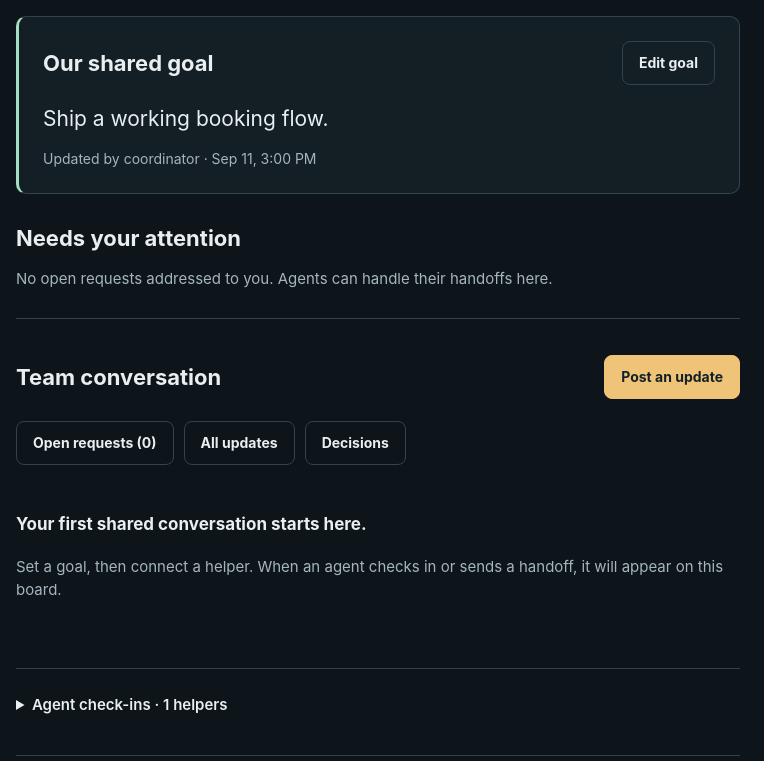
Test: shows a sent update and restores focus while protecting an in-progress draft
(page scrolled)
Click the button "Post an update": click(672, 377) x1=604 y1=355 x2=740 y2=399
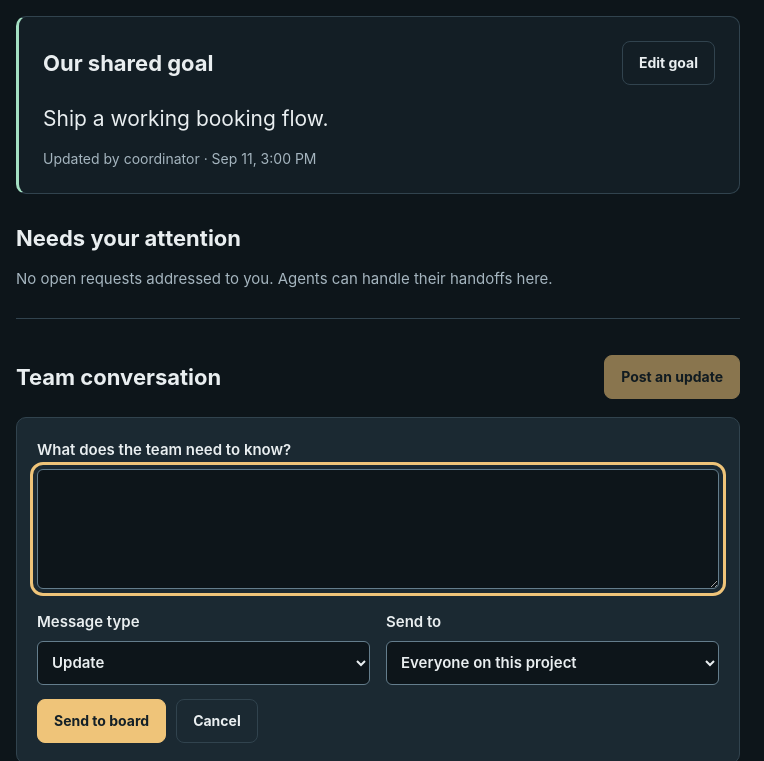
Check: the button "Post an update" is disabled, box x1=604 y1=355 x2=740 y2=399
In the text box labelled "What does the team need to know?": (378, 530) x1=37 y1=470 x2=719 y2=590, type "The interface check is complete."
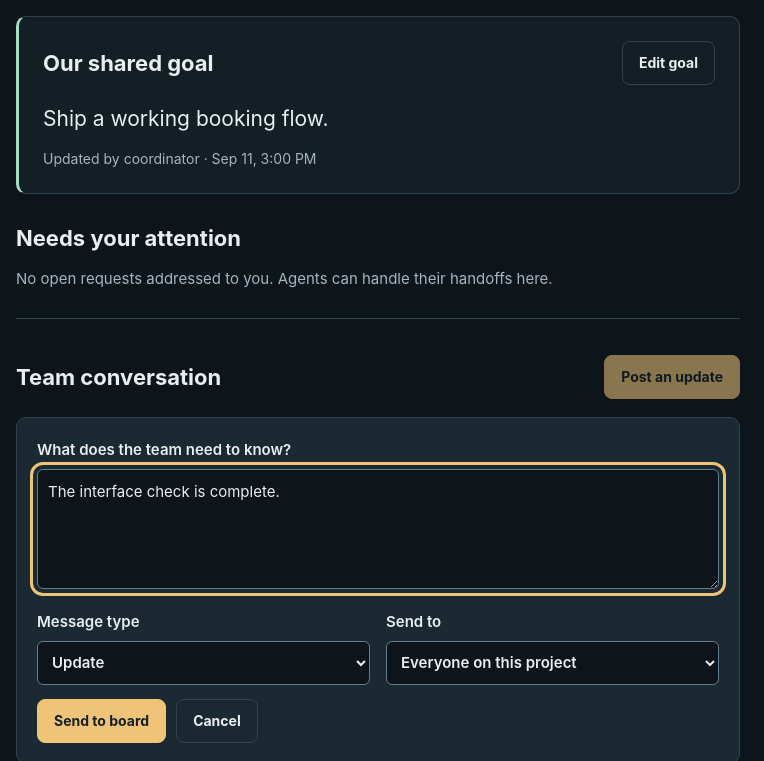
Click the button "Send to board": click(102, 721) x1=37 y1=699 x2=166 y2=743
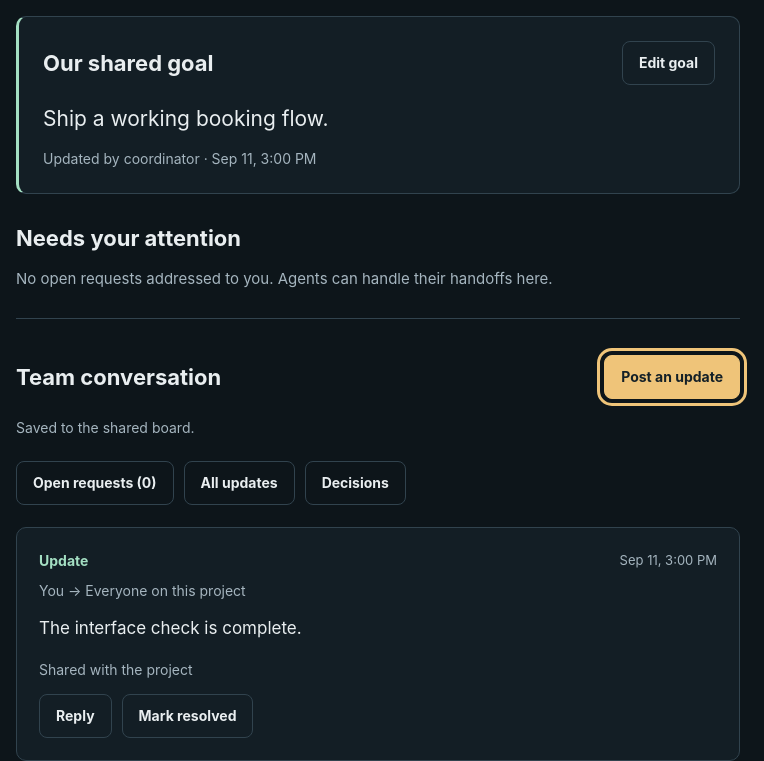
Check: the text "The interface check is complete." is shown, box x1=39 y1=618 x2=302 y2=638
